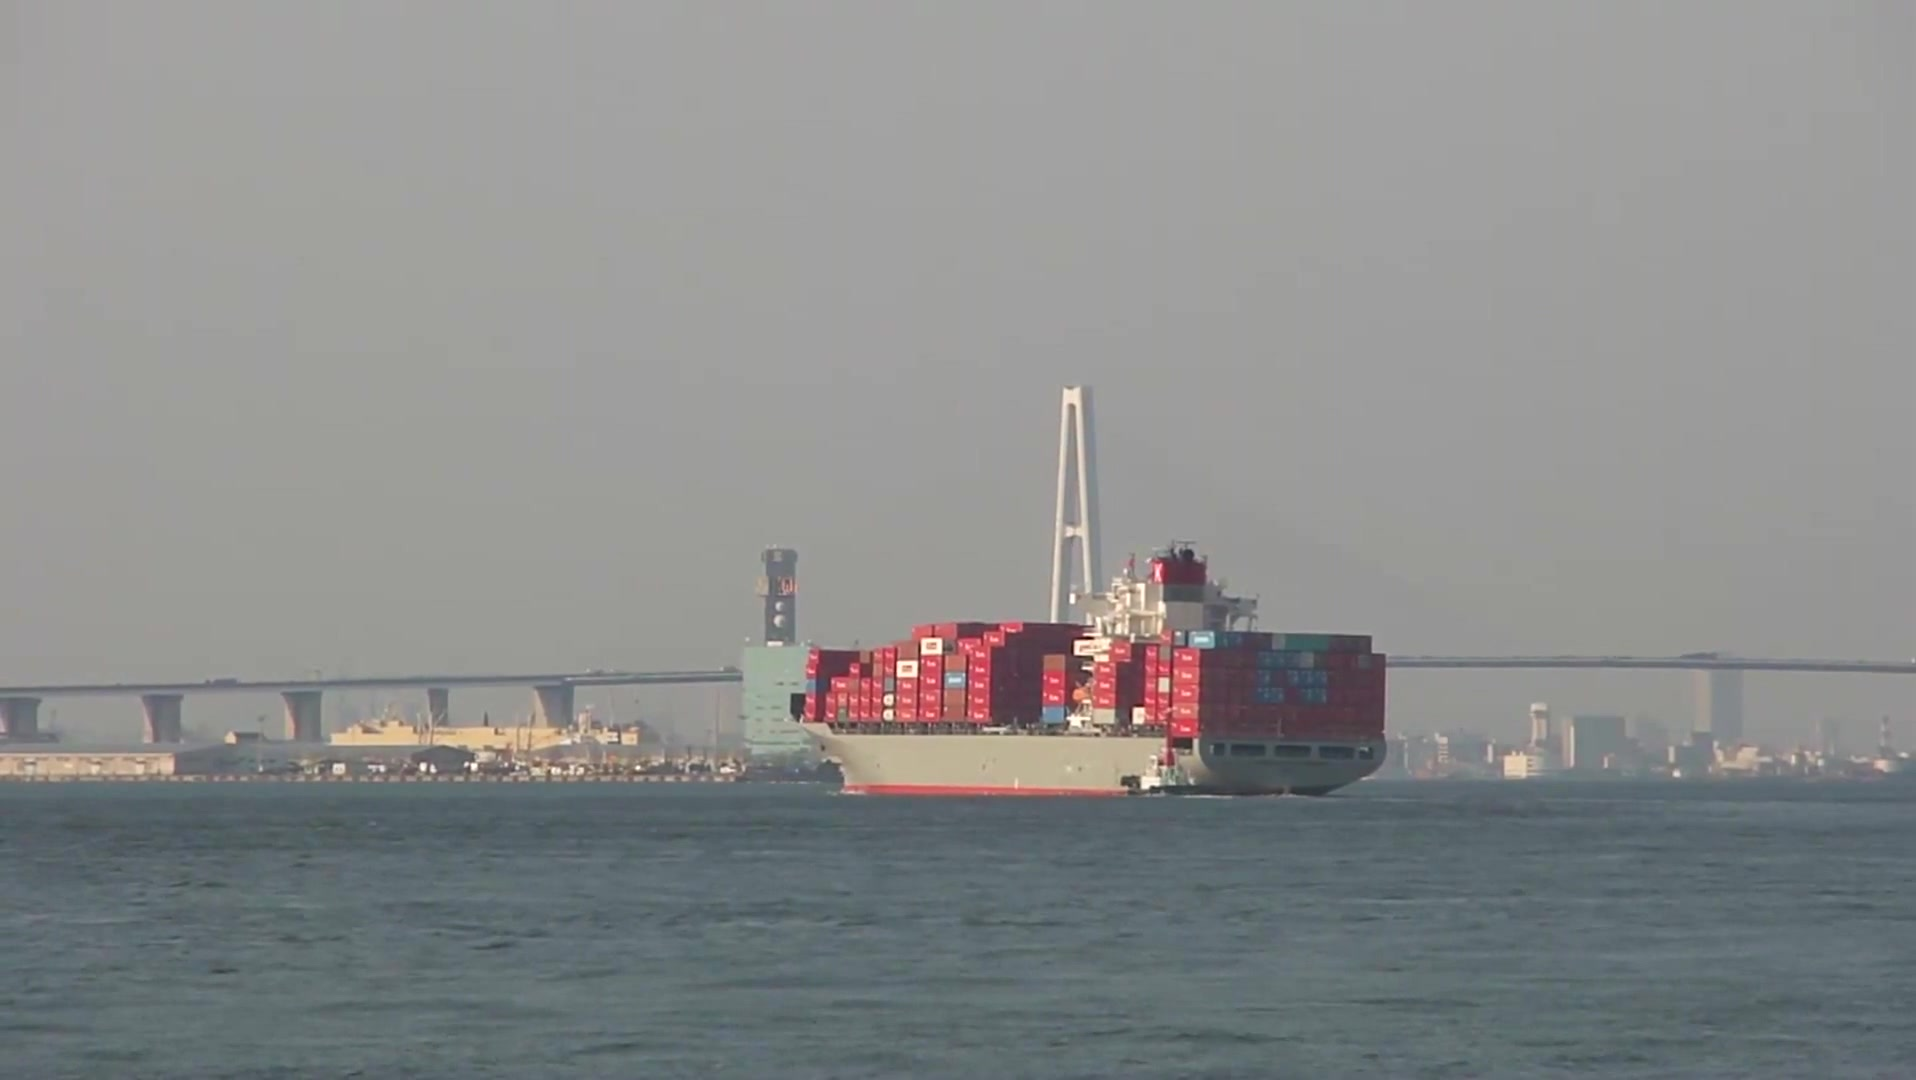boat: (794, 537, 1390, 804), (1122, 745, 1201, 804)
